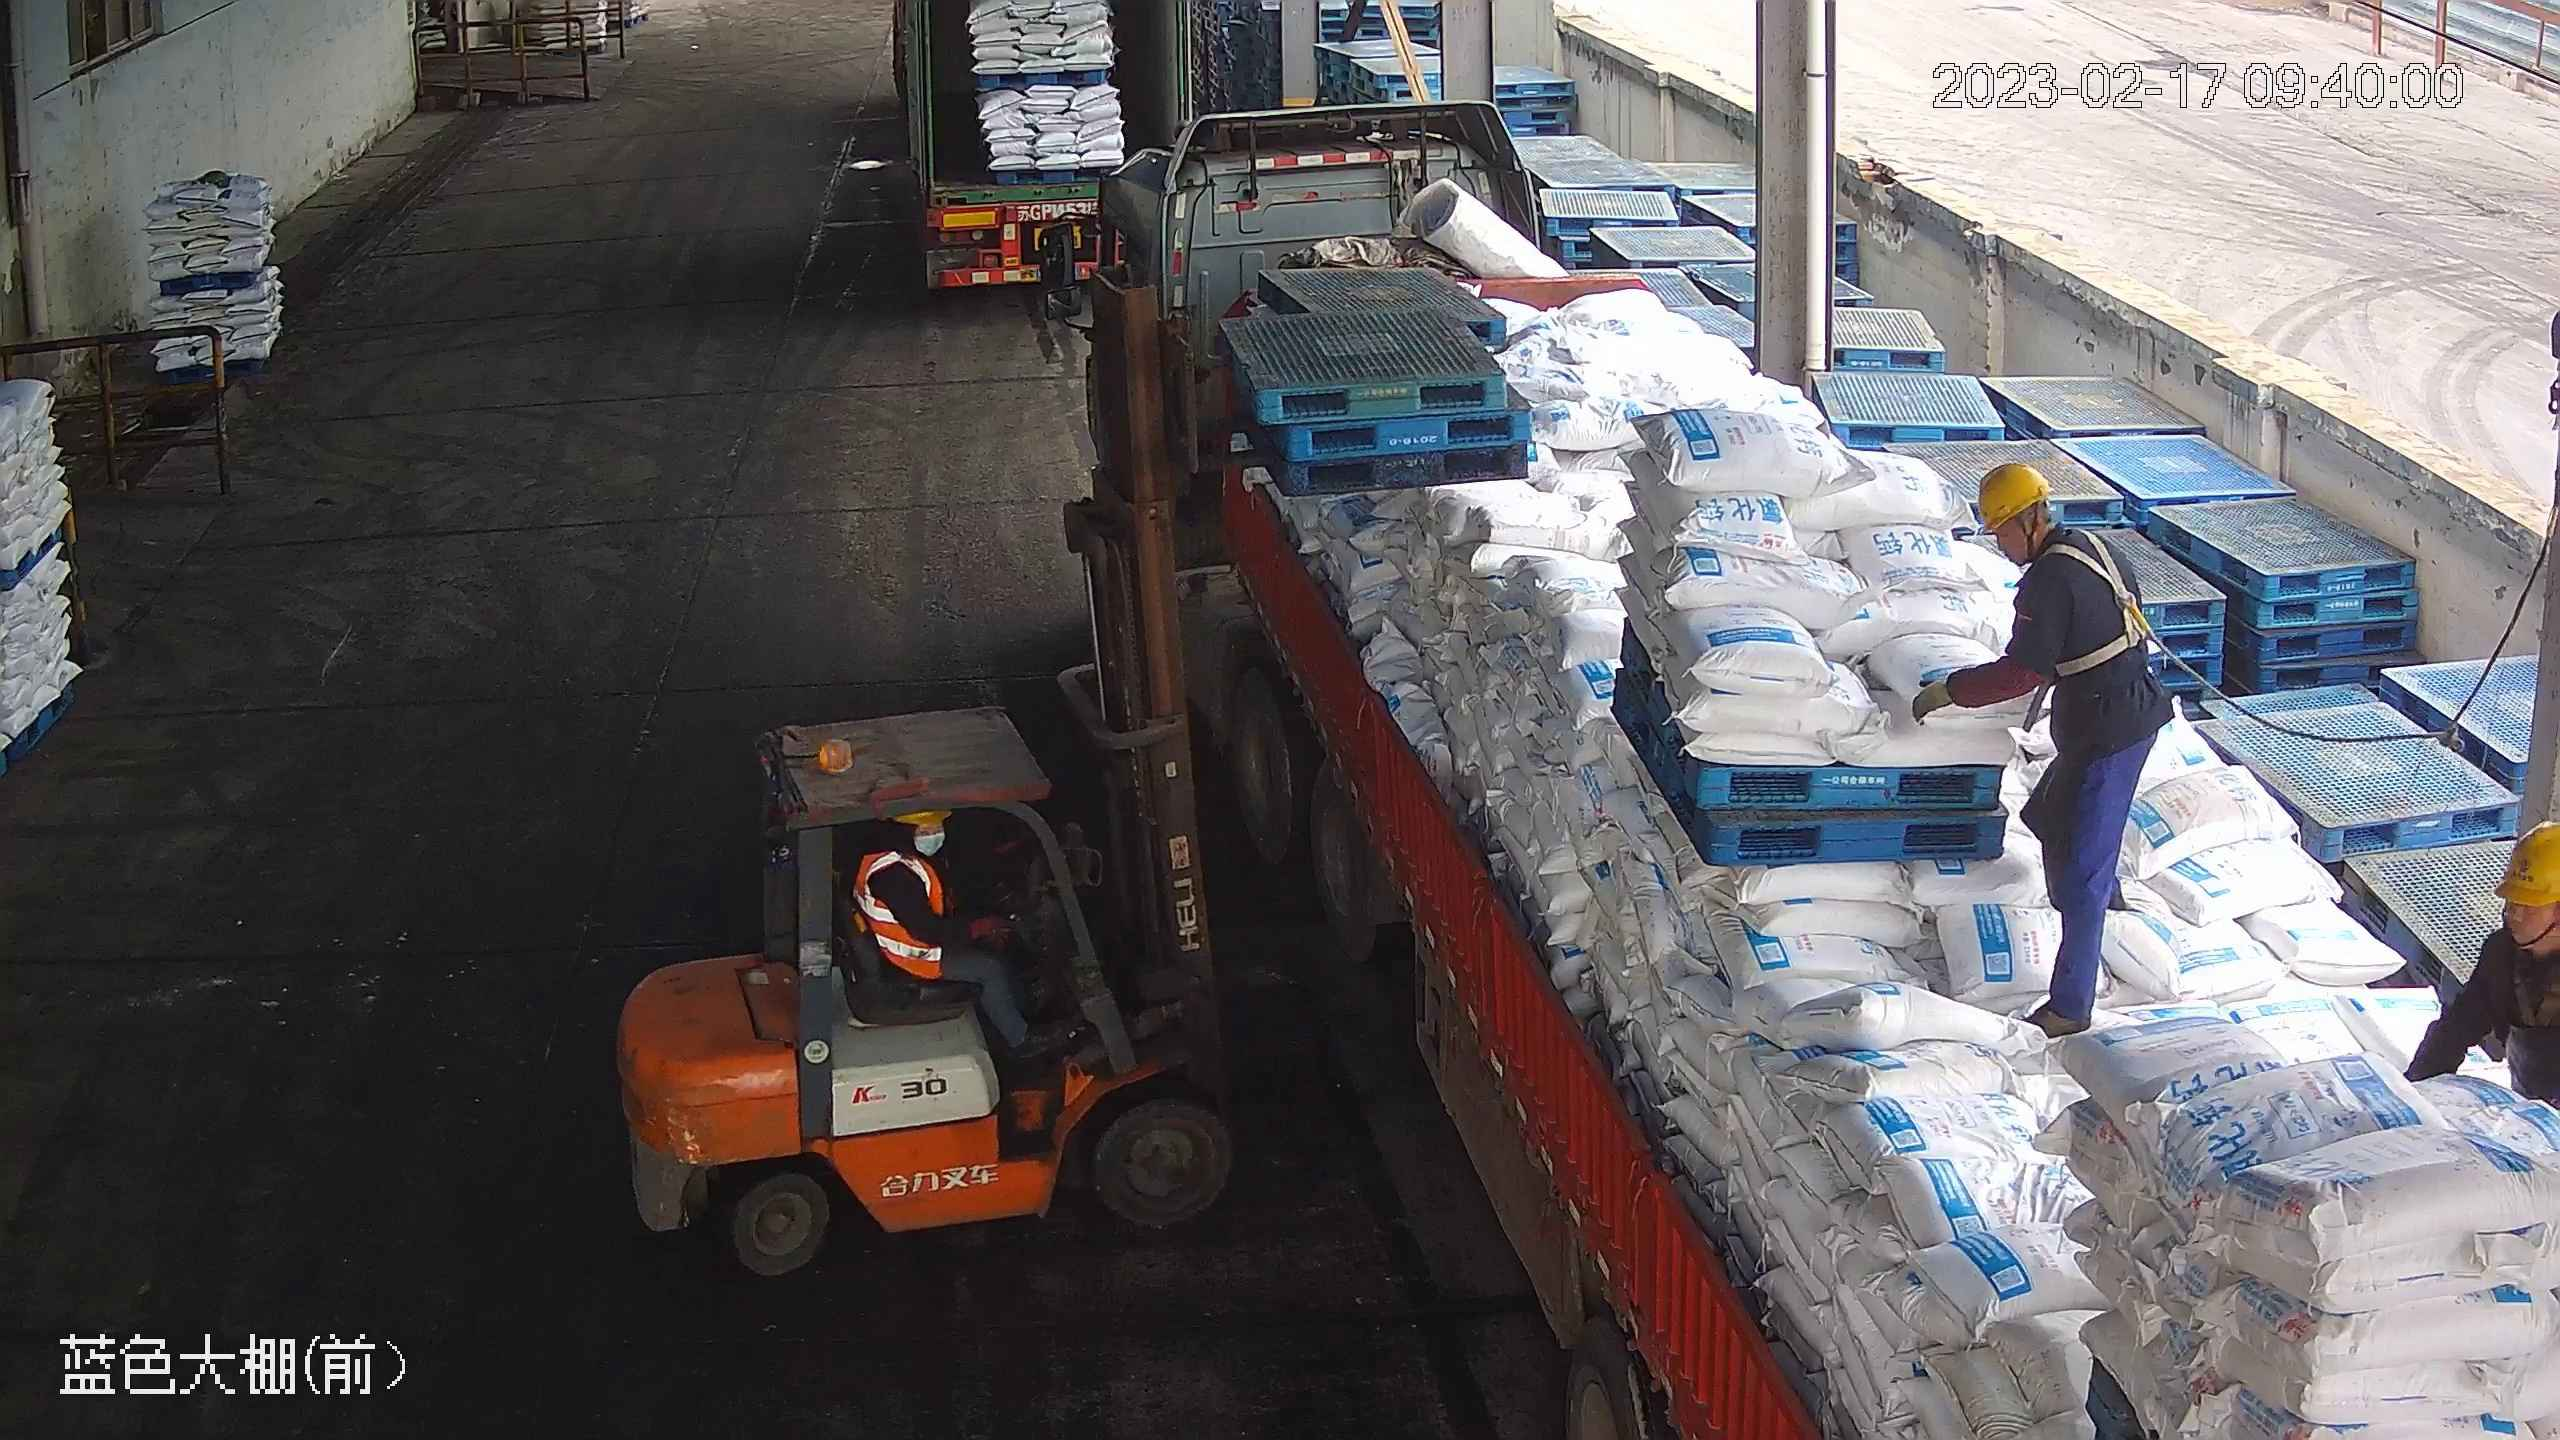belt: (2044, 534, 2165, 675), (2509, 923, 2559, 1039)
head: (1966, 460, 2138, 618), (2471, 818, 2560, 1004), (854, 803, 971, 912)
helmet: (1969, 460, 2056, 531), (2492, 817, 2559, 905)
people: (1910, 458, 2170, 1040), (852, 796, 1051, 1042)
truck: (1035, 99, 2559, 1439), (888, 1, 1171, 295)
